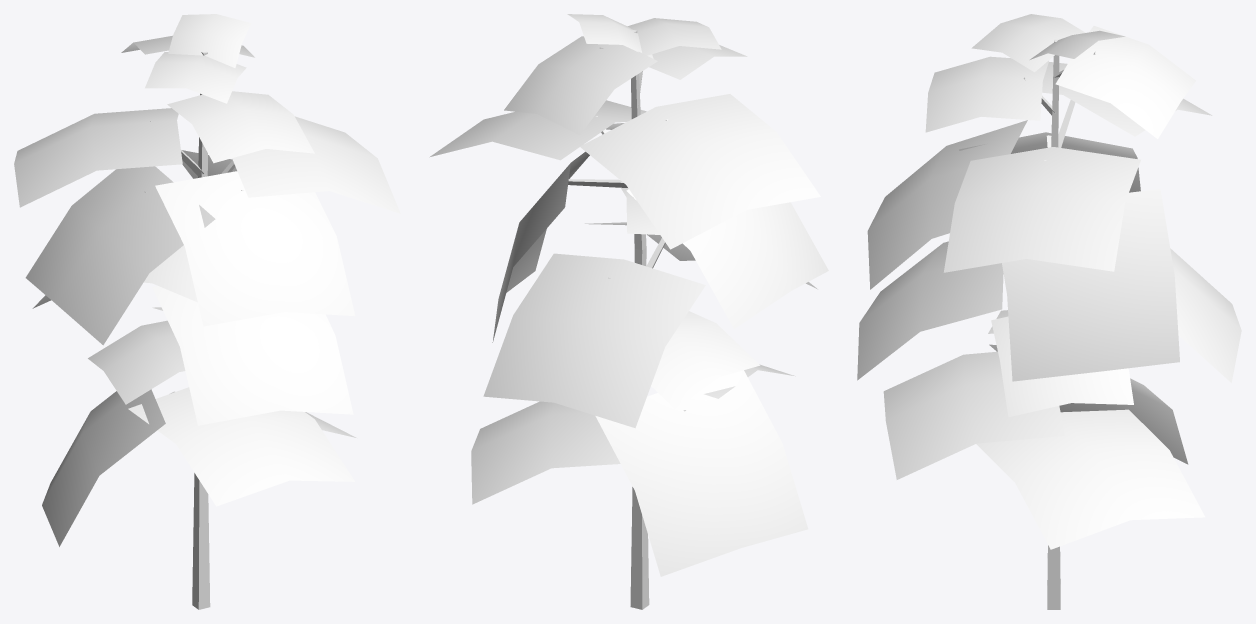
File: SM_Prop_Hemp_01_M.glb
3 renders of one model, left to right at view 1: azimuth 30°, elevation 25°; view 2: azimuth 150°, elevation 25°; view 3: azimuth 270°, elevation 25°, orthographic. The views are drawn at different scales.
Visible parts, largest first — view 1: SM_Prop_Hemp_01_M; view 2: SM_Prop_Hemp_01_M; view 3: SM_Prop_Hemp_01_M.
Boxes of the visible parts, x1,y1,x2,y2 form: SM_Prop_Hemp_01_M: [14, 14, 400, 609]; SM_Prop_Hemp_01_M: [429, 14, 828, 609]; SM_Prop_Hemp_01_M: [857, 14, 1241, 609].
Size of the model in its own units: 0.6857 by 1.06 by 0.6315.
2 materials, 1 textured.
